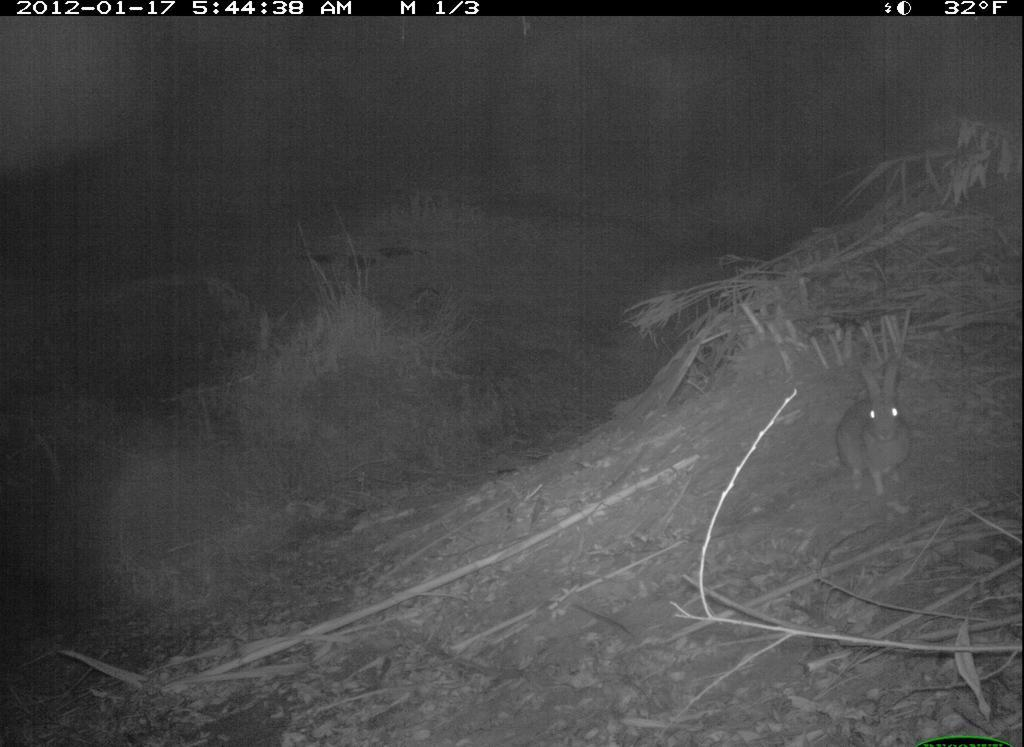rabbit: (808, 351, 922, 498)
